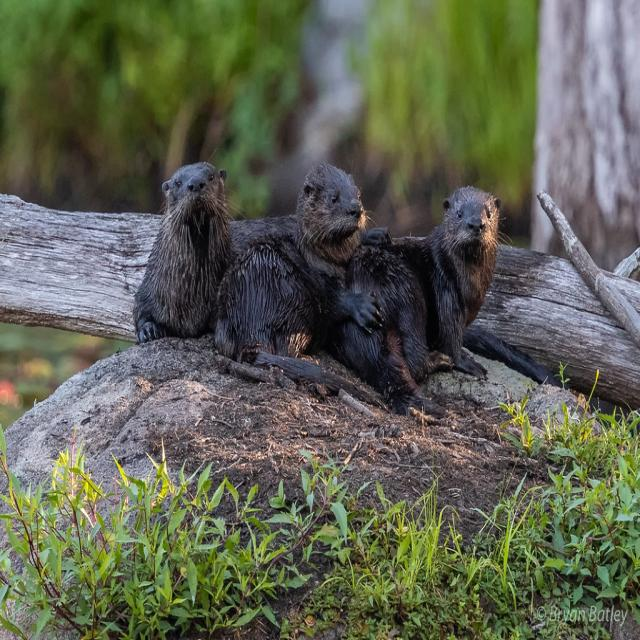otter: (336, 191, 498, 370), (220, 165, 365, 364), (138, 166, 233, 335)
